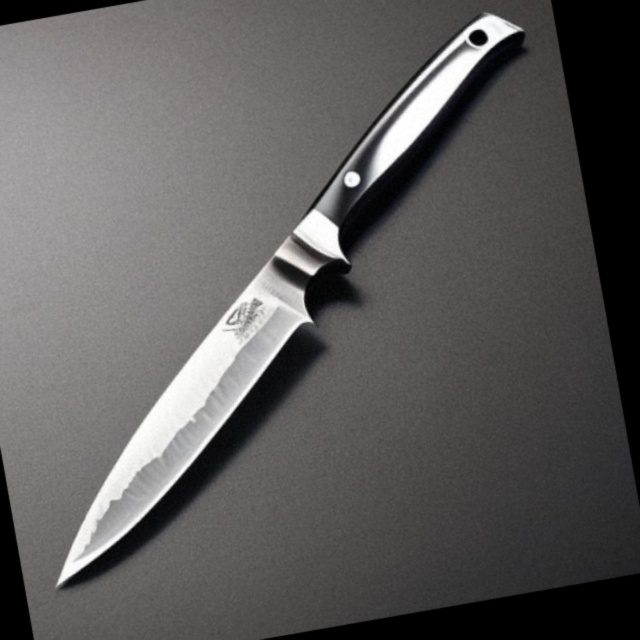Sharp-Object: (0, 0, 612, 590)
